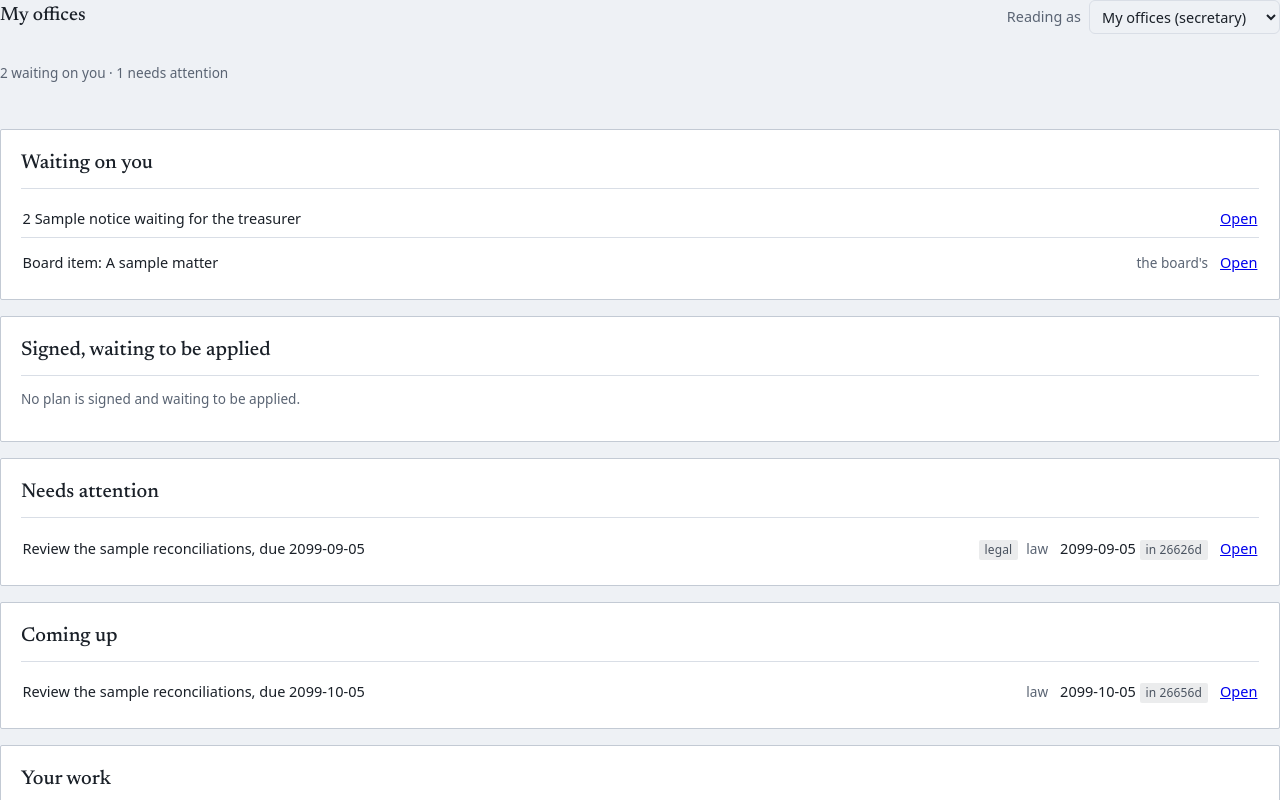
Test: OfficeToday › reads my offices by default and the office the hash names, and goes back
Expected: the heading "My offices" is shown, x1=0 y1=2 x2=86 y2=31
Expected: the text "Reading as the" is not shown
Select "treasurer" in the dropdown labelled "Reading as" at (1184, 17), box x1=1089 y1=0 x2=1279 y2=34
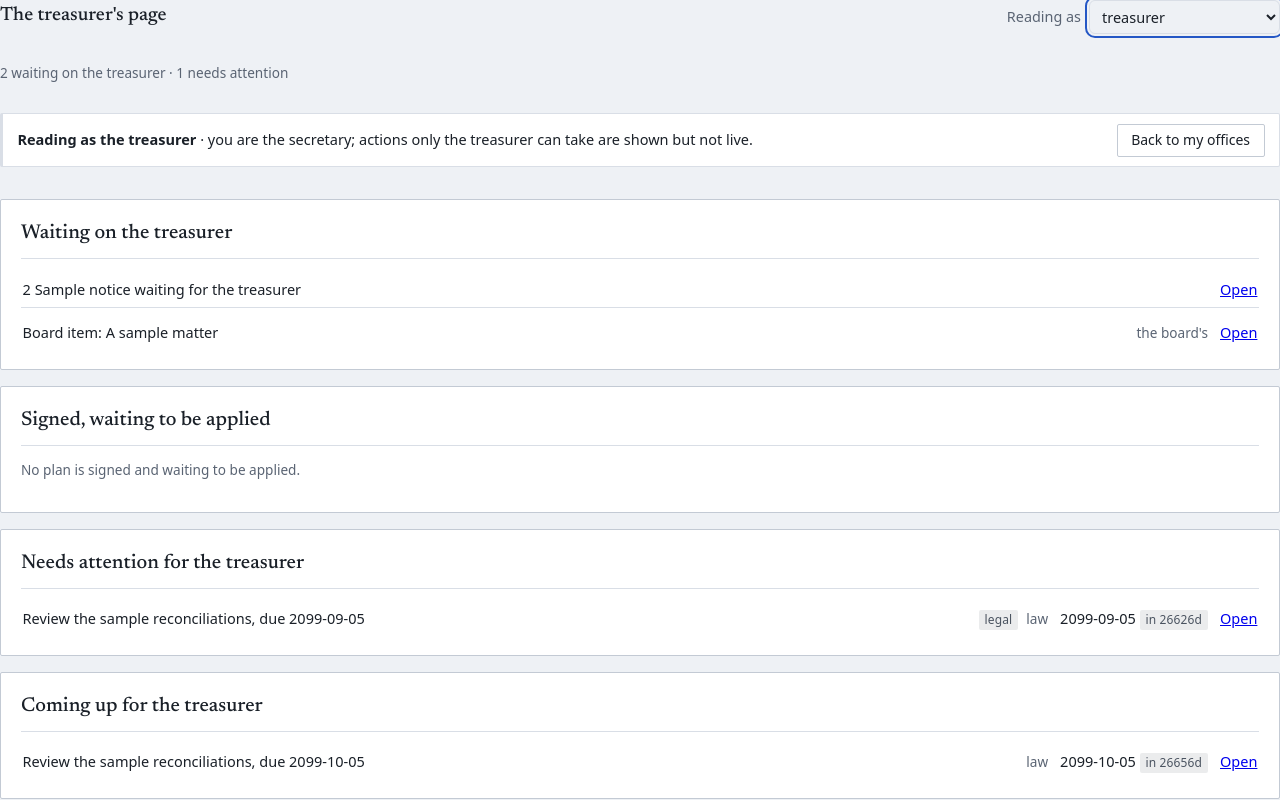
Result: the text "Reading as the treasurer" is shown at x1=17 y1=129 x2=196 y2=149
Click the button "Back to my offices" at (1191, 140), box x1=1116 y1=124 x2=1265 y2=157
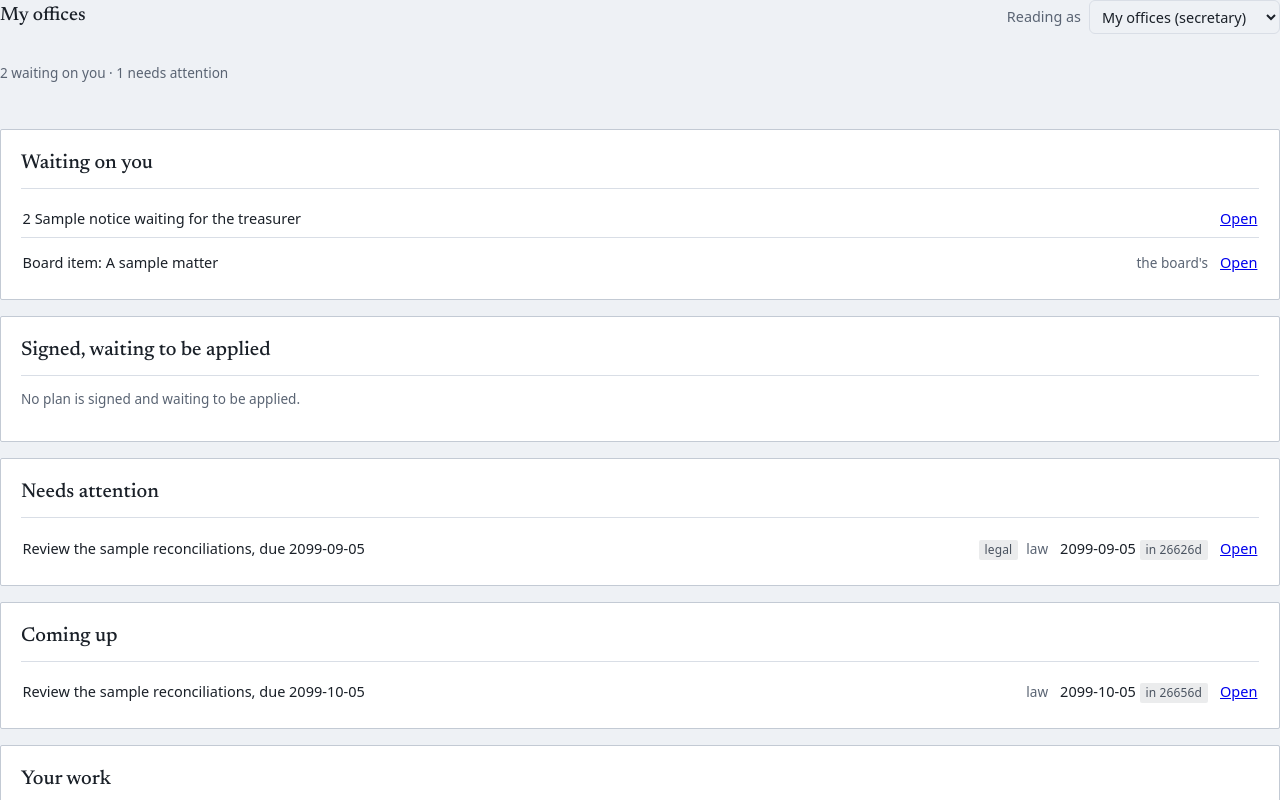
Result: the text "Reading as the treasurer" is gone
Result: the heading "Your work" is shown at x1=21 y1=764 x2=111 y2=794
